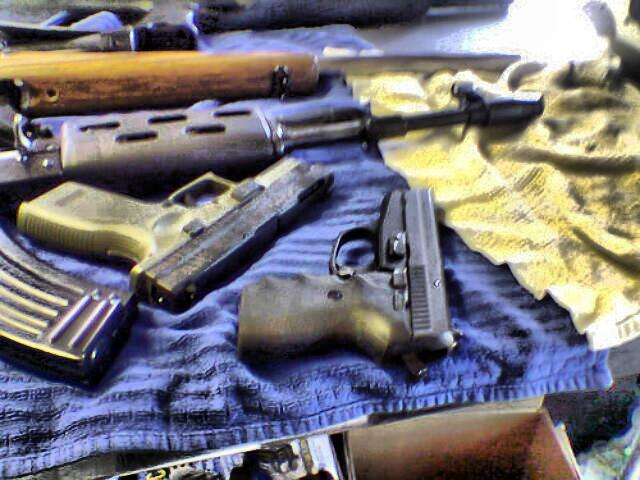pistol: (14, 148, 334, 308), (235, 184, 461, 374)
